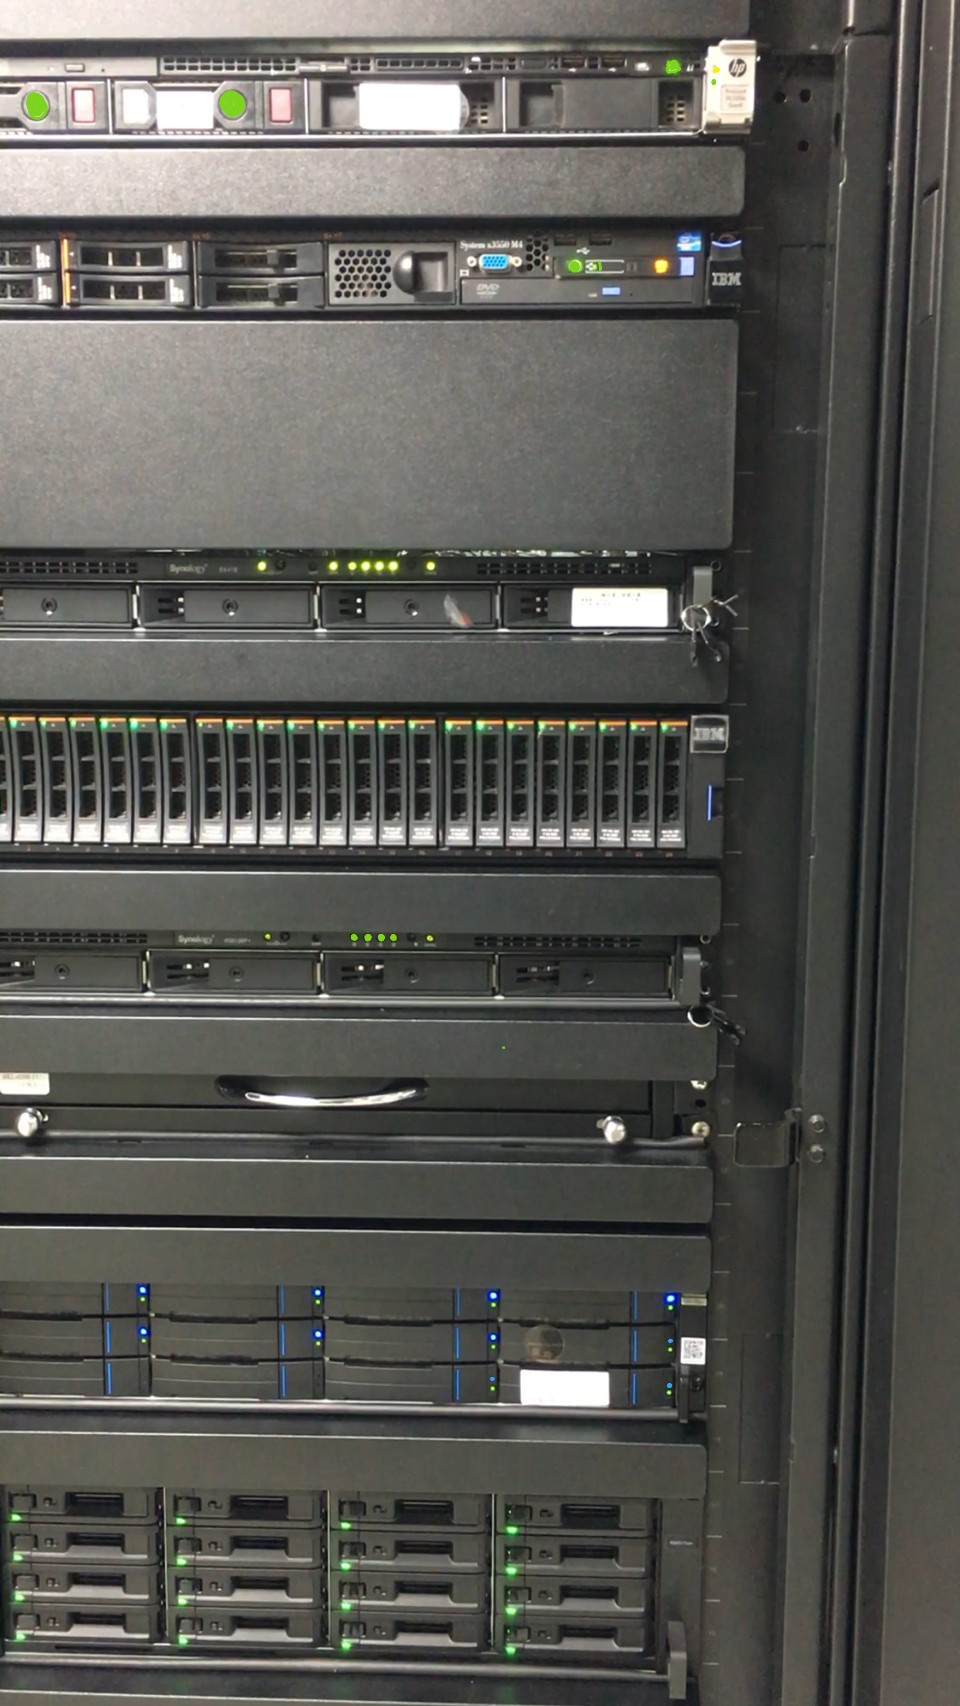HDD_Notused: (195, 273, 326, 314), (184, 240, 331, 274)
HDD_shut down: (55, 269, 199, 318), (61, 240, 197, 277), (1, 273, 54, 319), (1, 237, 61, 273)
